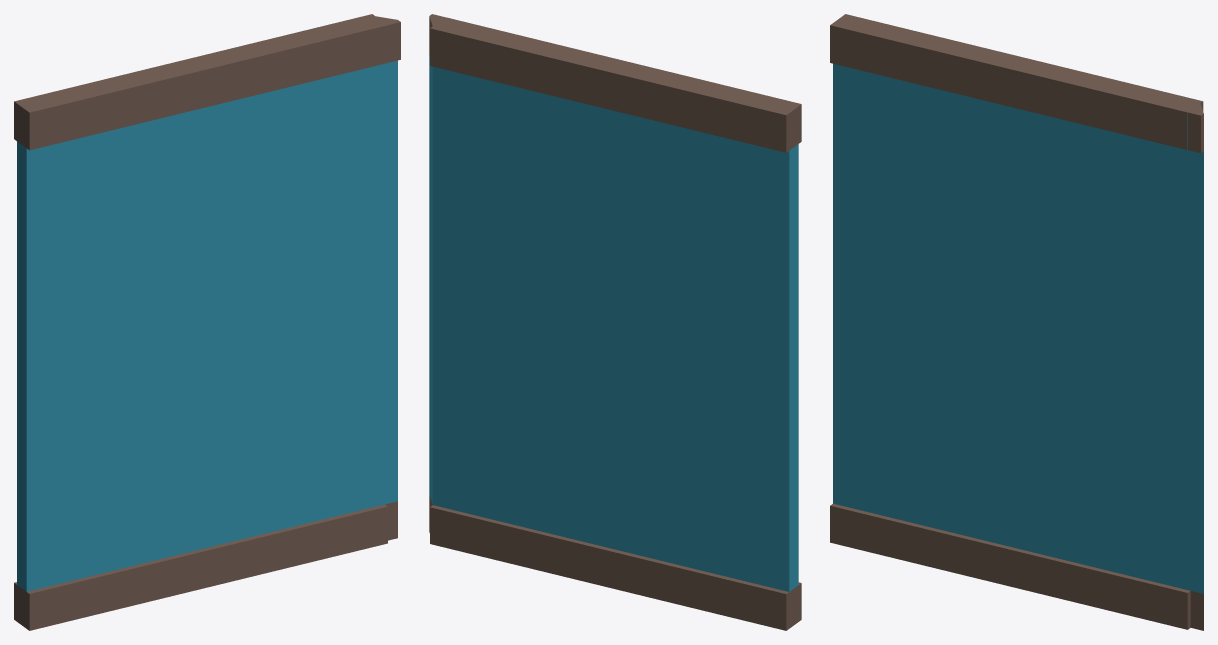
File: DefaultWall.fbx
3 views of the same model, side by side, from view 1: azimuth 30°, elevation 25°; view 2: azimuth 150°, elevation 25°; view 3: azimuth 330°, elevation 25° (orthographic).
Parts seen in each view (by area): view 1: DefaultWall; view 2: DefaultWall; view 3: DefaultWall.
Part boxes in pixels (<box>): DefaultWall: <box>14,14,400,630</box>; DefaultWall: <box>429,14,801,630</box>; DefaultWall: <box>830,14,1203,630</box>.
Bounding box in the file's own units: 900 × 1200 × 64.65.
